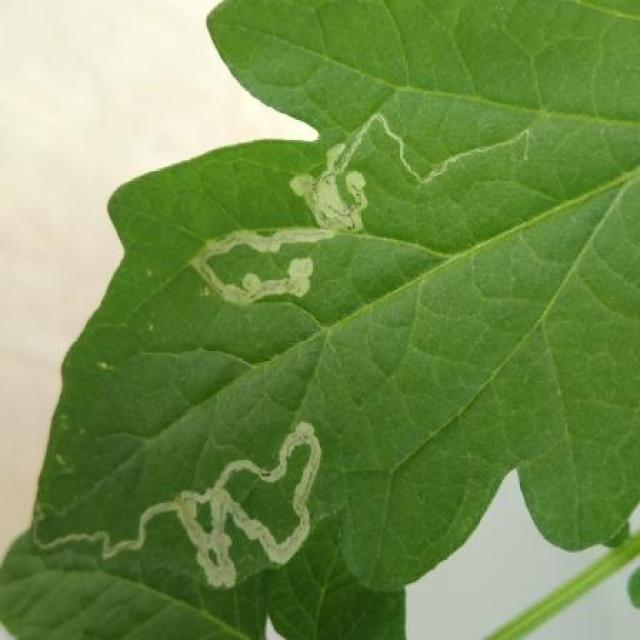Leaf Miner: (23, 0, 640, 597)
